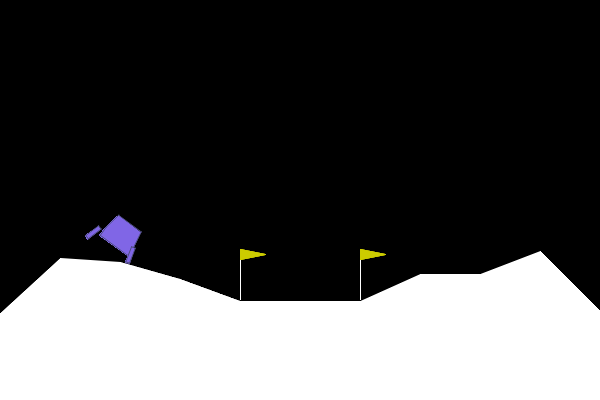lander: (83, 205, 155, 272)
